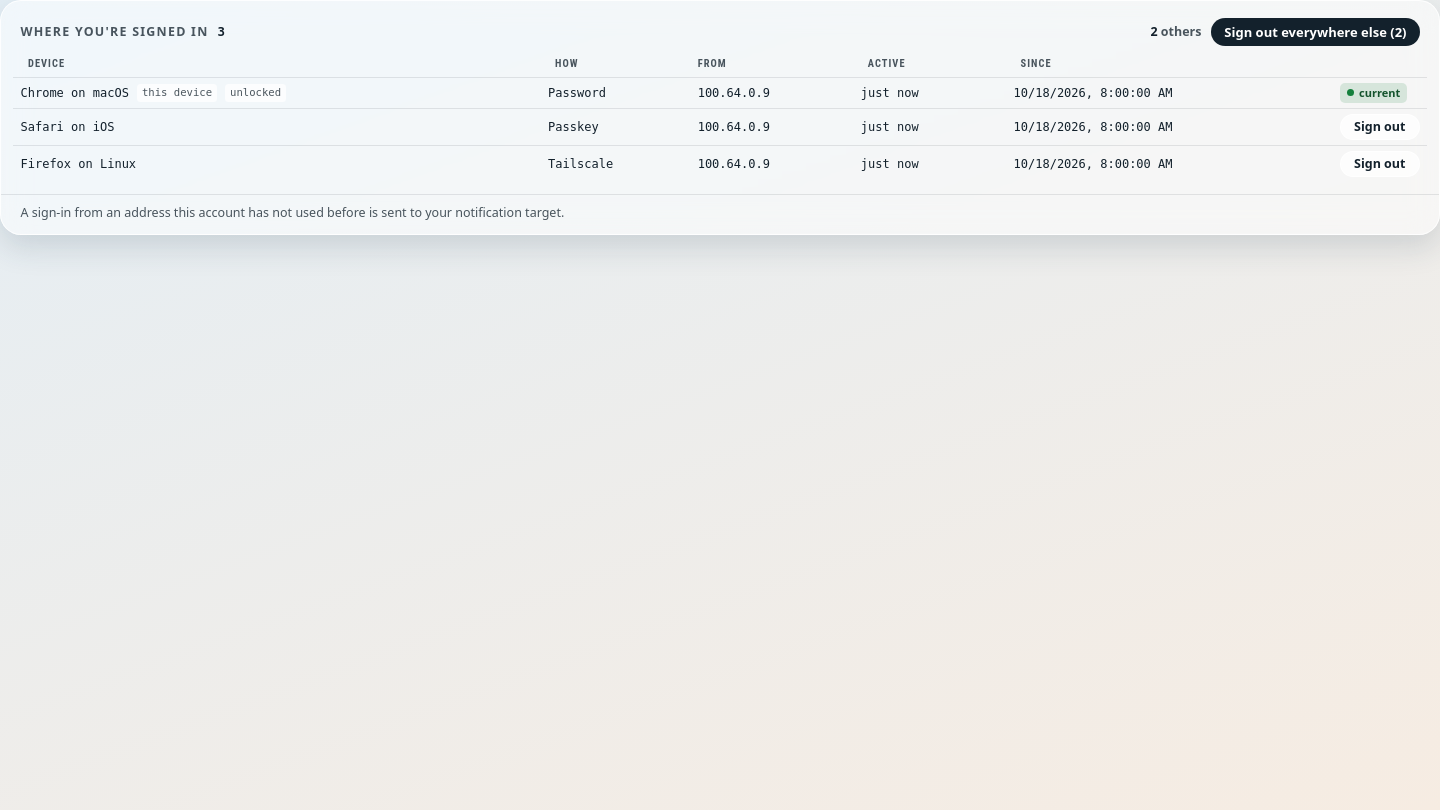
Scenario: Where you're signed in › signs one device out with the CSRF token
Click the button with aria-label "Sign out Safari on iOS": (1380, 127) [1340,114,1420,140]
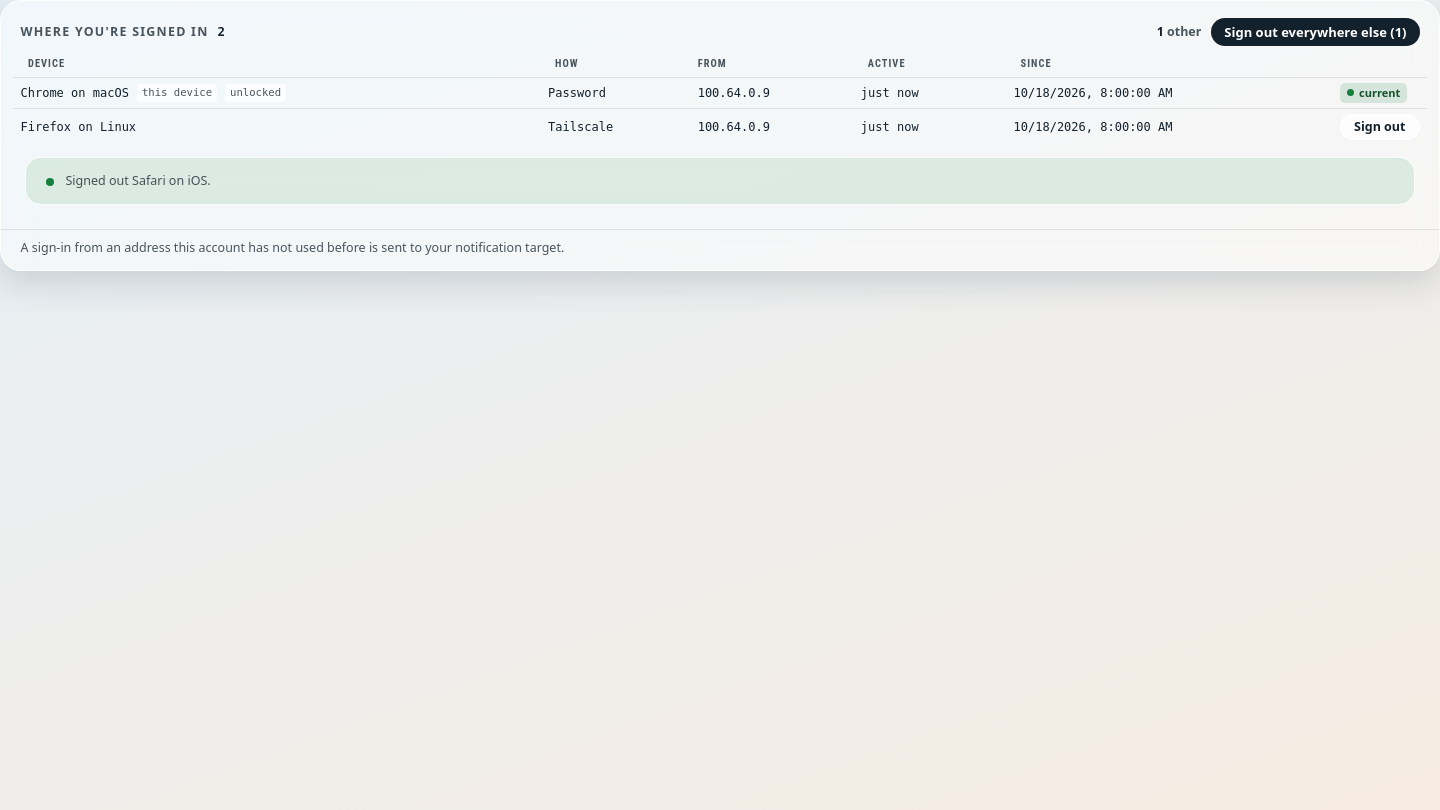
Check: the text "Signed out Safari on iOS." is shown, box [66,172,211,189]
